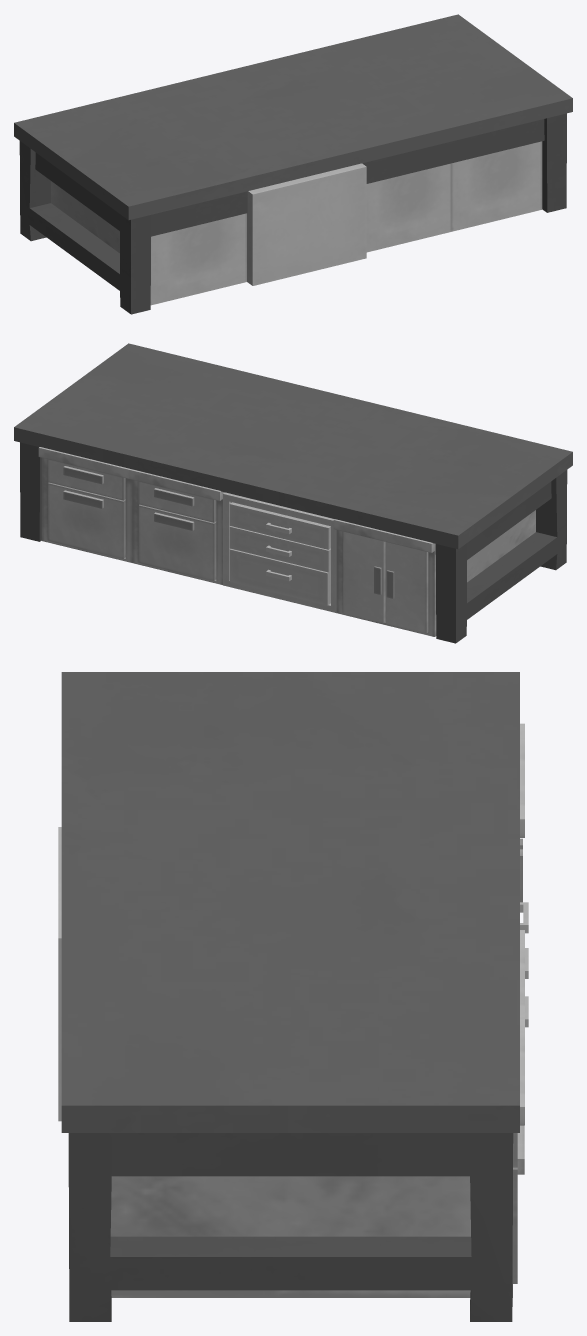
The model's file is Pfb_Table_02_3_JLAB.fbx.
The picture shows the model from 3 angles, top to bottom: view 1: azimuth 30°, elevation 25°; view 2: azimuth 150°, elevation 25°; view 3: azimuth 270°, elevation 25°; orthographic projection. The views are drawn at different scales.
Parts seen in each view (by area): view 1: Mat_Table_02White, Kitchen, Kitchen 4; view 2: Mat_Table_02White, Kitchen, Kitchen 4; view 3: Mat_Table_02White, Kitchen, Kitchen 4.
Part boxes in pixels (box(x1,y1,x2,y2)): Mat_Table_02White: box(14, 14, 572, 314); Kitchen: box(51, 141, 542, 305); Kitchen 4: box(247, 163, 366, 285); Mat_Table_02White: box(14, 343, 572, 643); Kitchen: box(38, 447, 535, 636); Kitchen 4: box(223, 492, 336, 612); Mat_Table_02White: box(61, 672, 519, 1321); Kitchen: box(110, 723, 524, 1297); Kitchen 4: box(58, 827, 528, 1121).
Size of the model in its own units: 2.78 by 0.6588 by 1.27.
Materials: 3 (3 with a texture image).
